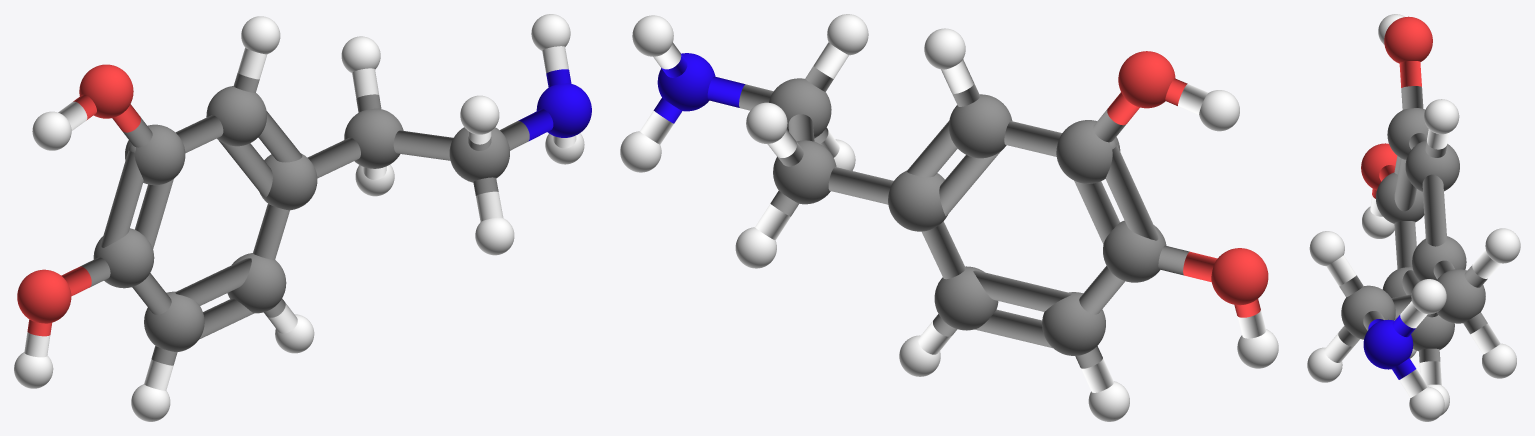
File: dopamine.glb
The picture shows the model from 3 angles, left to right: view 1: azimuth 30°, elevation 25°; view 2: azimuth 150°, elevation 25°; view 3: azimuth 270°, elevation 25°; orthographic projection. The views are drawn at different scales.
Parts seen in each view (by area): view 1: dopamine; view 2: dopamine; view 3: dopamine.
Boxes of the visible parts, x1,y1,x2,y2 form: dopamine: (14, 14, 591, 421); dopamine: (620, 14, 1278, 421); dopamine: (1307, 14, 1520, 421).
Bounding box in the file's own units: 8.81 × 5.11 × 3.06.
